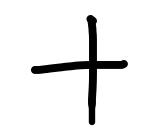plus: (31, 15, 128, 125)
